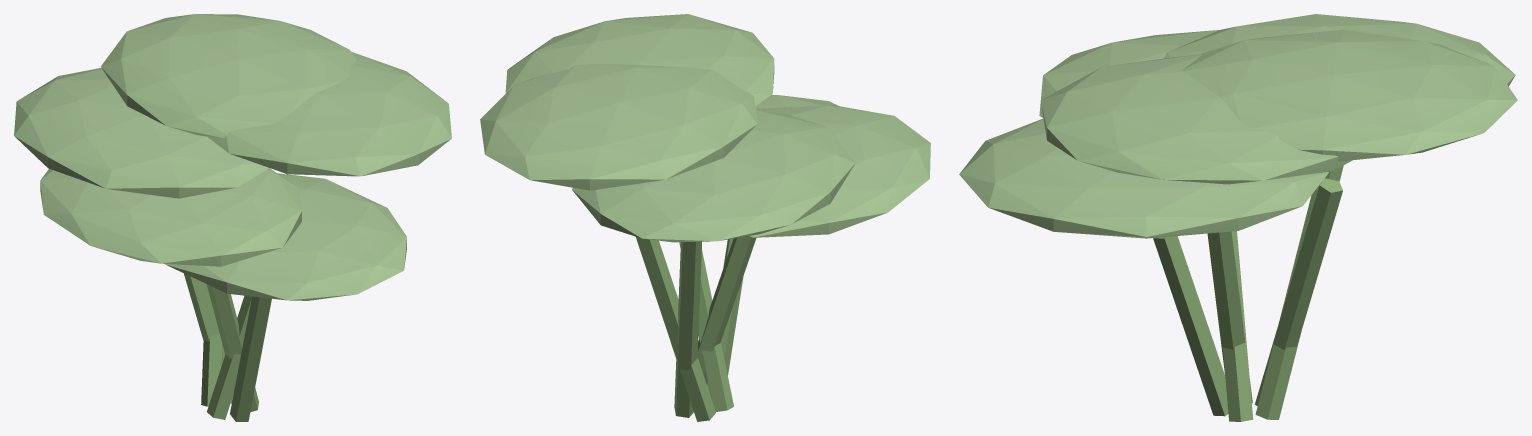
Rendered from xanthosoma-sagittifolium.glb.
The picture shows the model from 3 angles, left to right: view 1: azimuth 30°, elevation 25°; view 2: azimuth 150°, elevation 25°; view 3: azimuth 270°, elevation 25°; orthographic projection. The views are drawn at different scales.
Parts seen in each view (by area): view 1: blade4, blade3, blade2, blade0, blade1, petiole1, petiole2, petiole0, petiole4, petiole3; view 2: blade4, blade3, blade0, blade2, petiole3, petiole4, petiole0, petiole2, petiole1, blade1; view 3: blade4, blade0, blade1, blade3, petiole1, petiole3, blade2, petiole2, petiole4, petiole0.
Boxes of the visible parts, x1=… form: blade4: x1=100, y1=14, x2=356, y2=138; blade3: x1=14, y1=68, x2=268, y2=198; blade2: x1=40, y1=168, x2=301, y2=266; blade0: x1=206, y1=52, x2=451, y2=176; blade1: x1=165, y1=173, x2=406, y2=300; petiole1: x1=230, y1=296, x2=271, y2=421; petiole2: x1=207, y1=295, x2=251, y2=419; petiole0: x1=207, y1=284, x2=258, y2=412; petiole4: x1=184, y1=273, x2=233, y2=403; petiole3: x1=201, y1=334, x2=222, y2=406; blade4: x1=480, y1=64, x2=757, y2=190; blade3: x1=572, y1=110, x2=855, y2=242; blade0: x1=505, y1=14, x2=774, y2=105; blade2: x1=746, y1=105, x2=930, y2=237; petiole3: x1=636, y1=237, x2=715, y2=421; petiole4: x1=674, y1=241, x2=701, y2=417; petiole0: x1=697, y1=236, x2=756, y2=383; petiole2: x1=679, y1=242, x2=733, y2=411; petiole1: x1=706, y1=238, x2=743, y2=395; blade1: x1=755, y1=95, x2=838, y2=109; blade4: x1=1182, y1=29, x2=1517, y2=161; blade0: x1=1040, y1=54, x2=1352, y2=184; blade1: x1=959, y1=118, x2=1328, y2=238; blade3: x1=1164, y1=14, x2=1515, y2=86; petiole1: x1=1153, y1=236, x2=1228, y2=416; petiole3: x1=1255, y1=178, x2=1342, y2=405; blade2: x1=1039, y1=30, x2=1219, y2=117; petiole2: x1=1207, y1=231, x2=1252, y2=403; petiole4: x1=1255, y1=165, x2=1343, y2=419; petiole0: x1=1222, y1=231, x2=1253, y2=421.
Bounding box in the file's own units: 0.4237 × 0.3471 × 0.4832.
